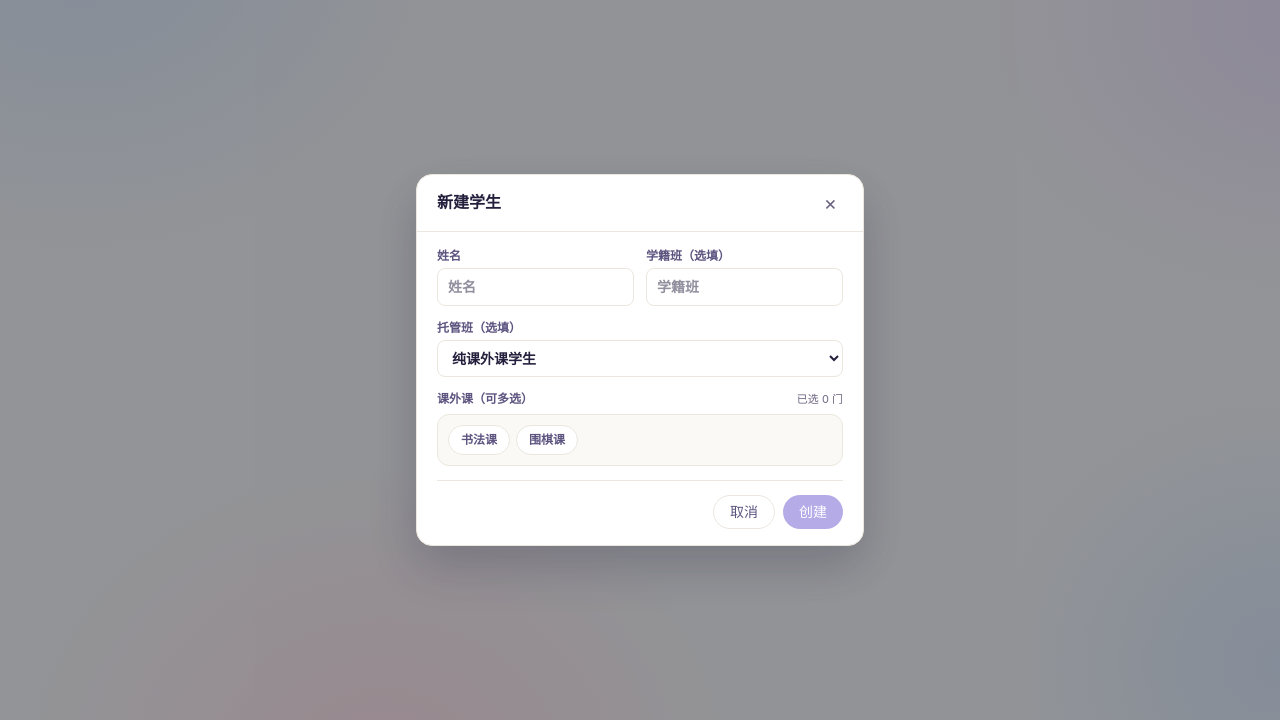
Test: CreateStudentModal › shows a generic failure message and does not close for any other error
Type "小明" into the field labelled "姓名" at point(536, 287), box [437, 268, 634, 306]
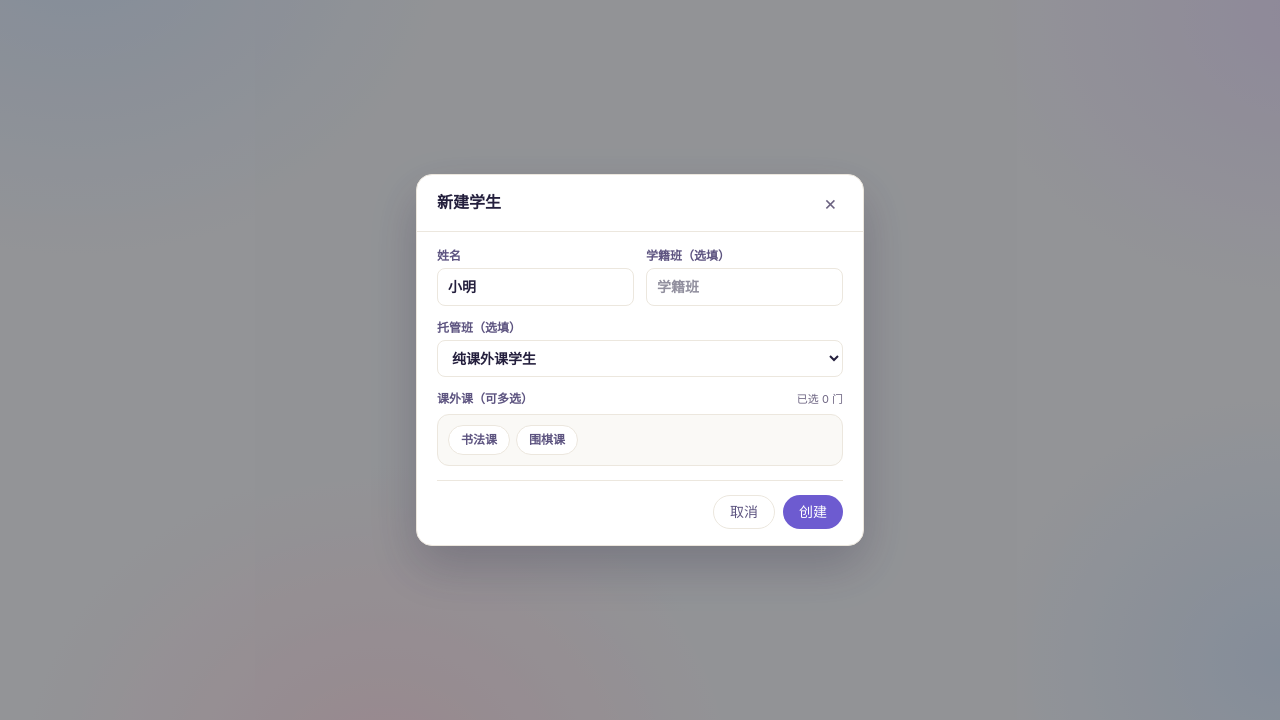
Click the button "创建" at point(813, 512), box [783, 495, 843, 529]
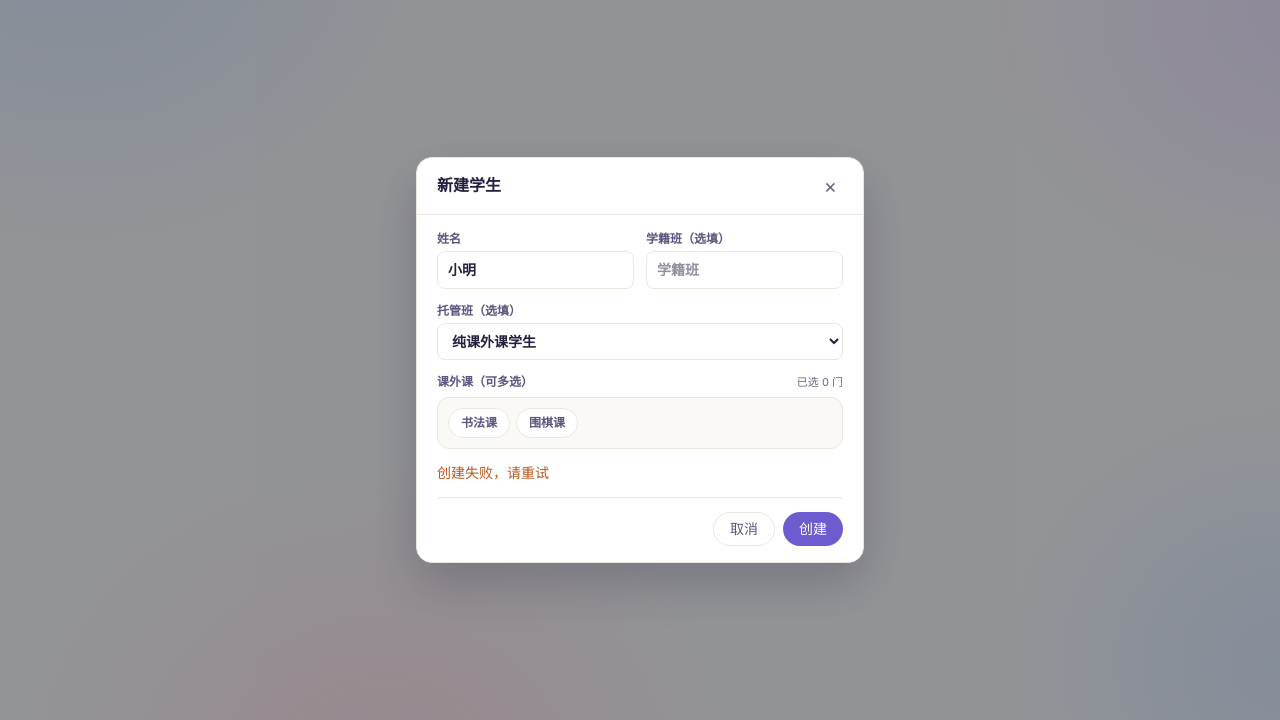
Now the text "创建失败，请重试" is shown, box [437, 464, 549, 481]
